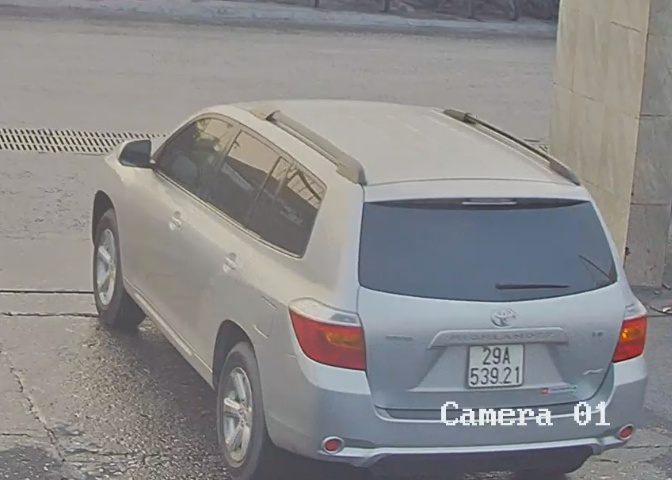vehicle plate: (468, 338, 521, 385)
